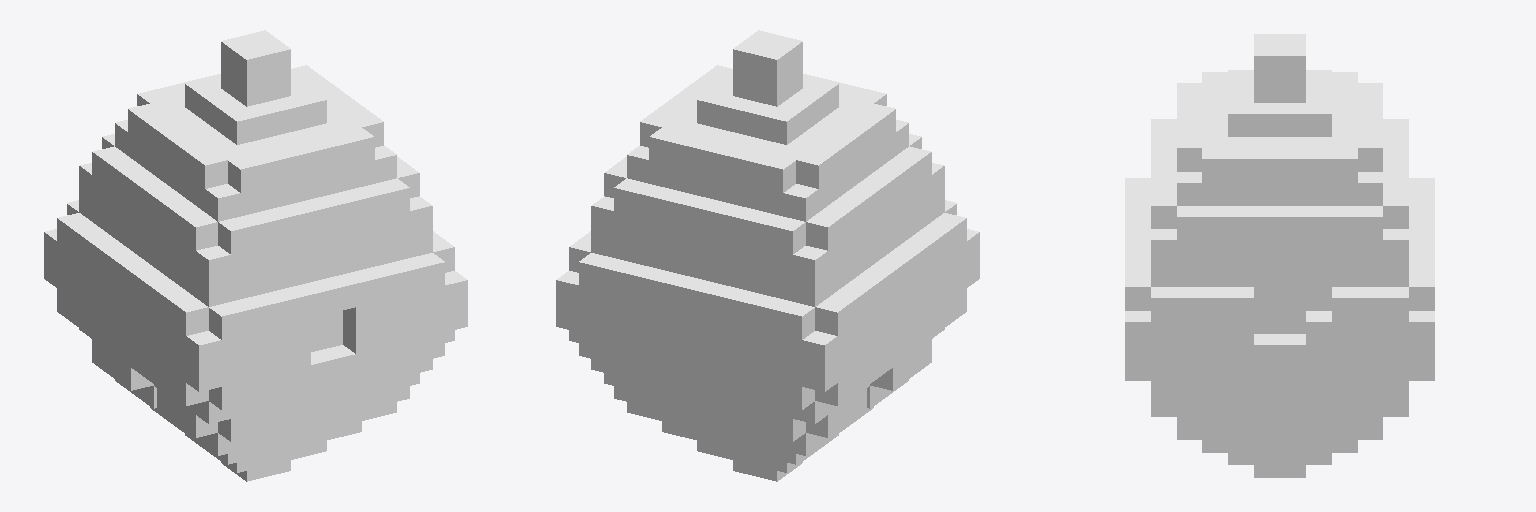
Rendered from old_hive.obj.
3 views of the same model, side by side, from view 1: azimuth 30°, elevation 25°; view 2: azimuth 150°, elevation 25°; view 3: azimuth 270°, elevation 25° (orthographic).
Visible parts, largest first — view 1: object 1; view 2: object 1; view 3: object 1.
Boxes of the visible parts, x1,y1,x2,y2 form: object 1: [44, 30, 467, 481]; object 1: [556, 30, 979, 481]; object 1: [1125, 34, 1434, 477].
Size of the model in its own units: 1.2 by 1.8 by 1.2.